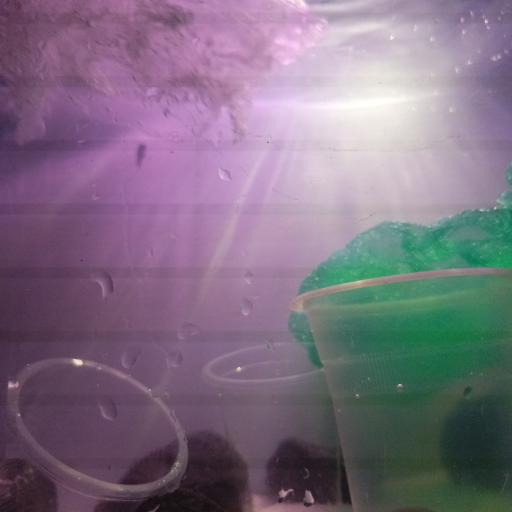plastic_bag: (2, 0, 328, 154), (286, 192, 512, 388)
plastic_cup: (288, 264, 512, 512), (0, 353, 190, 512), (202, 337, 356, 512)
